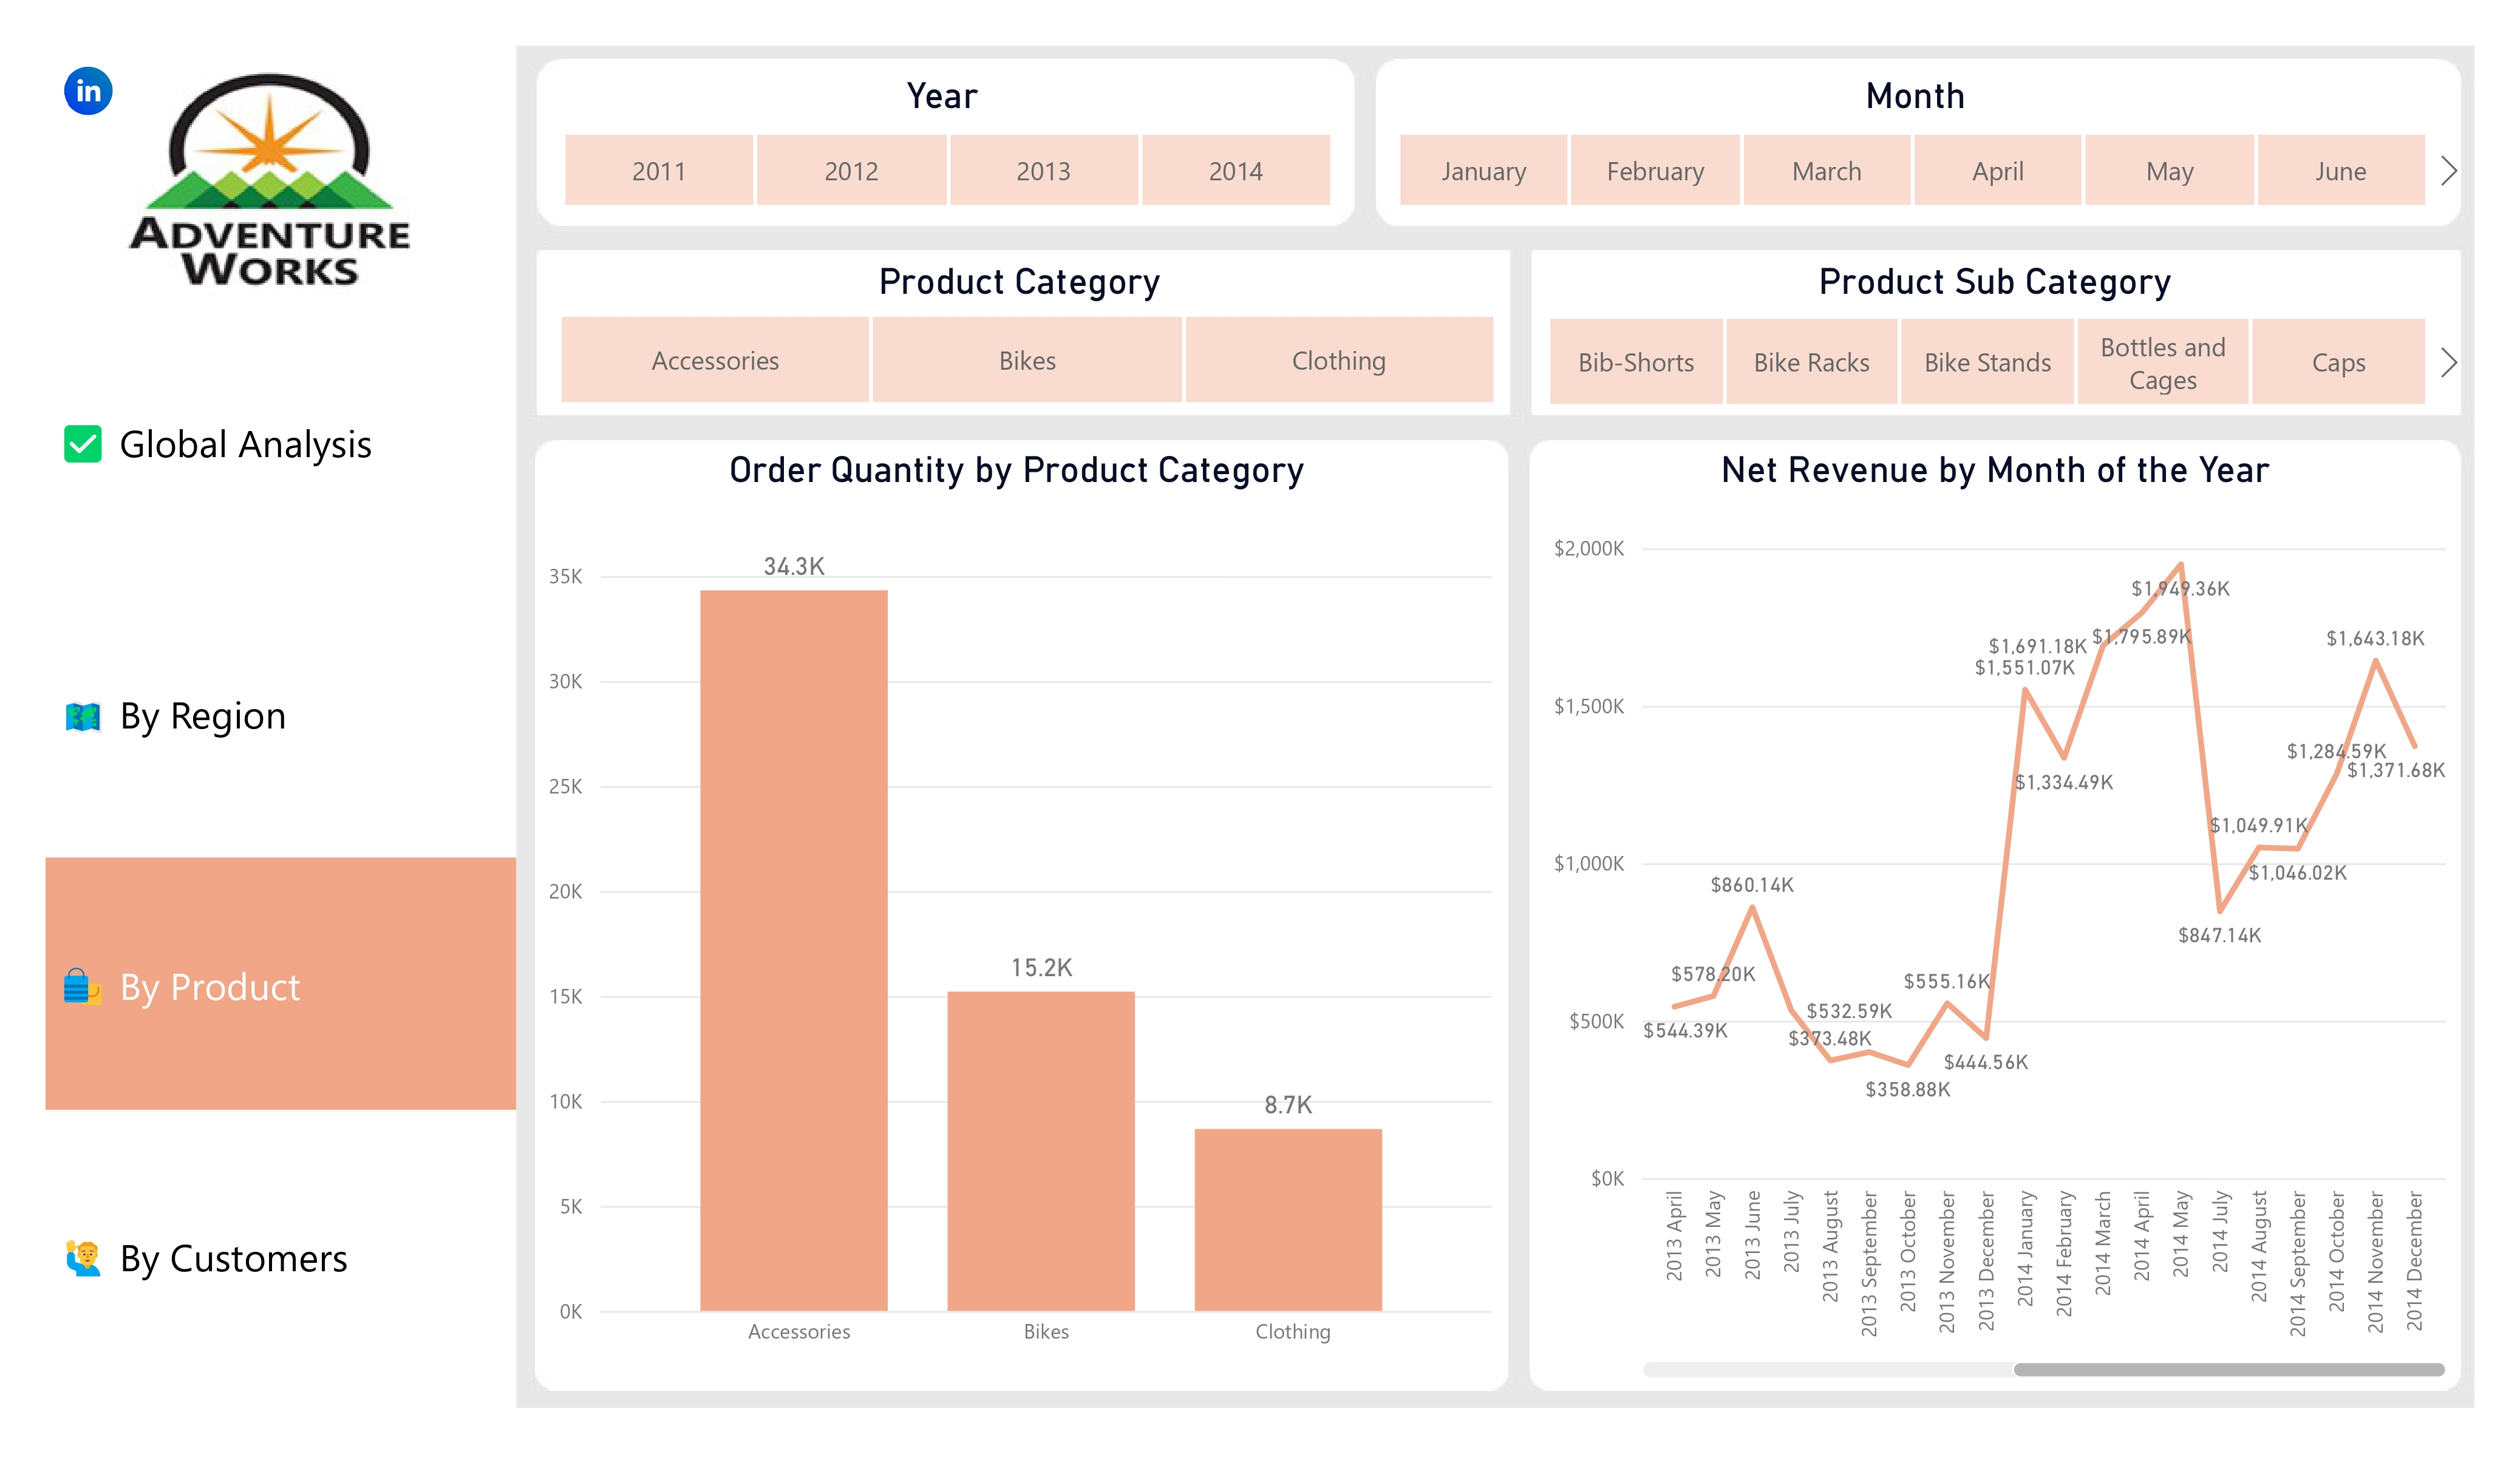

The page's visual inventory and layout, read from the dashboard file:
{"tool":"powerbi","page":{"name":"🛍️ By Product","canvas":[1280,720],"ordinal":2},"visuals":[{"type":"slicer","fields":{"Values":["DimProduct.ProductcategoryCode"]},"box":[246,136,541,59],"z":0},{"type":"slicer","fields":{"Values":["DimProduct.ProductSubcategoryCode"]},"box":[767,137,511,59],"z":1000},{"type":"columnChart","fields":{"Category":["DimProduct.ProductcategoryCode"],"Y":["FactInternetSales.Total Sales Qty"]},"box":[260,251,507,445],"z":2000},{"type":"lineChart","fields":{"Y":["FactInternetSales.Total Sales"],"Category":["DimDate.FiscalYear","DimDate.EnglishMonthName"]},"box":[789,251,481,456],"z":3000},{"type":"slicer","fields":{"Values":["DimDate.FiscalYear"]},"box":[248,40,453,51],"z":4000},{"type":"slicer","fields":{"Values":["DimDate.EnglishMonthName"]},"box":[688,40,590,51],"z":5000},{"type":"pageNavigator","box":[0,142,248,565],"z":6000},{"type":"textbox","box":[260,10,425,37],"z":7000},{"type":"textbox","box":[701,10,569,37],"z":8000},{"type":"textbox","box":[260,108,507,37],"z":9000},{"type":"textbox","box":[781,108,493,37],"z":10000},{"type":"textbox","box":[781,207,493,37],"z":11000},{"type":"textbox","box":[257,207,510,37],"z":12000},{"type":"image","box":[0,0,45.5,47.3],"z":13000}]}

Visuals, with their boxes on the page's 1280x720 design canvas (x1, y1, x2, y2). These are canvas units, not pixel positions in the 2520x1457 screenshot, which may show the page scaled, cropped or inside an application window:
slicer - DimProduct.ProductcategoryCode: 246 136 787 195
slicer - DimProduct.ProductSubcategoryCode: 767 137 1278 196
columnChart - DimProduct.ProductcategoryCode x FactInternetSales.Total Sales Qty: 260 251 767 696
lineChart - FactInternetSales.Total Sales x DimDate.FiscalYear: 789 251 1270 707
slicer - DimDate.FiscalYear: 248 40 701 91
slicer - DimDate.EnglishMonthName: 688 40 1278 91
pageNavigator: 0 142 248 707
textbox: 260 10 685 47
textbox: 701 10 1270 47
textbox: 260 108 767 145
textbox: 781 108 1274 145
textbox: 781 207 1274 244
textbox: 257 207 767 244
image: 0 0 46 47
